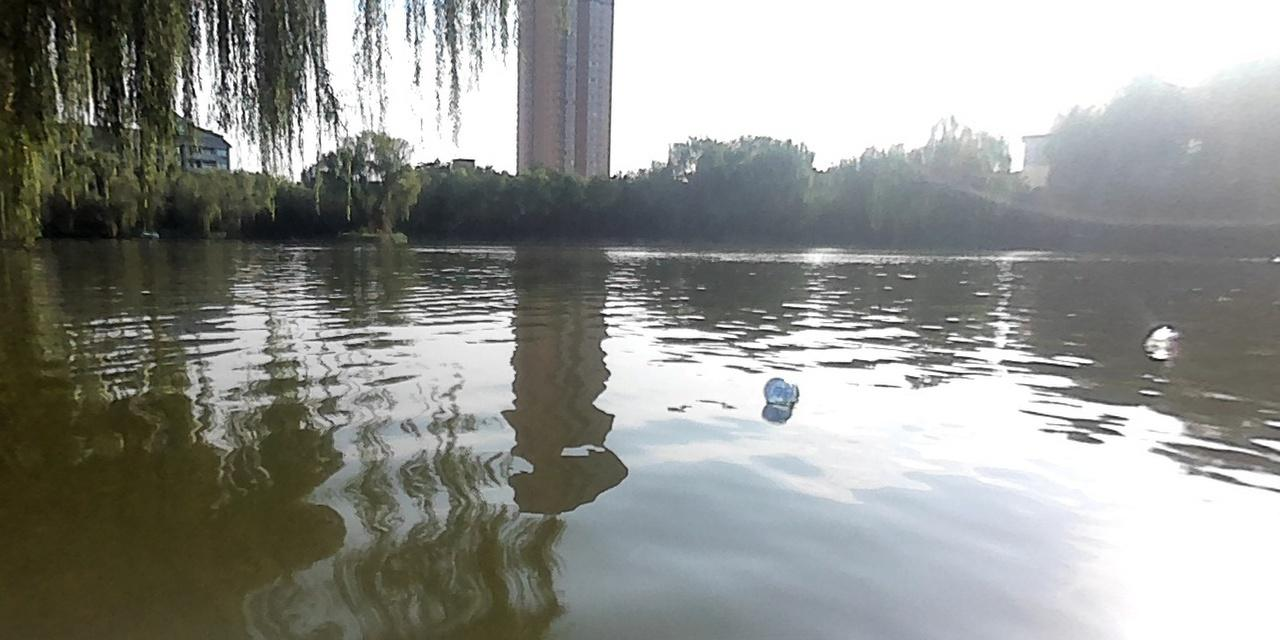bottle: (1144, 324, 1180, 361), (761, 376, 800, 406)
